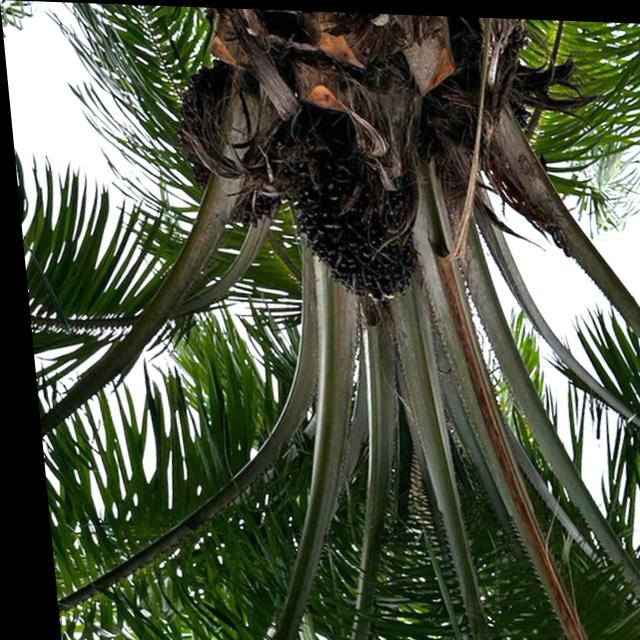unripe: (271, 114, 429, 308), (165, 54, 294, 234)
